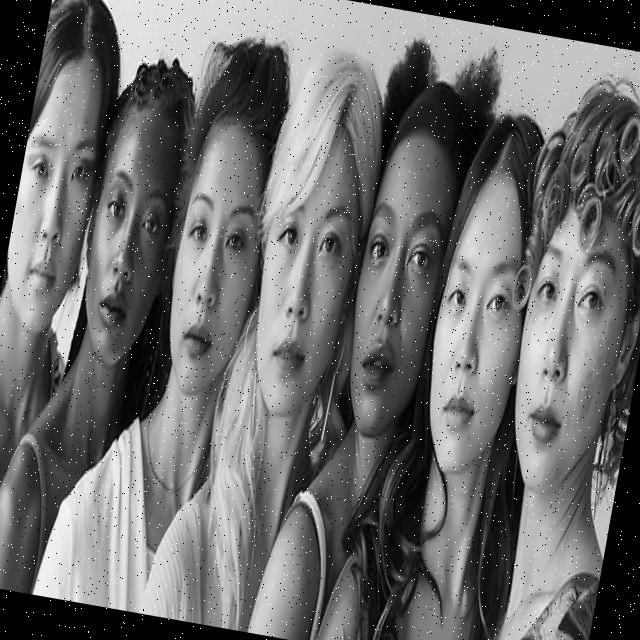Neutral: (497, 187, 640, 501), (413, 173, 545, 481), (240, 124, 374, 422), (0, 54, 112, 337)
